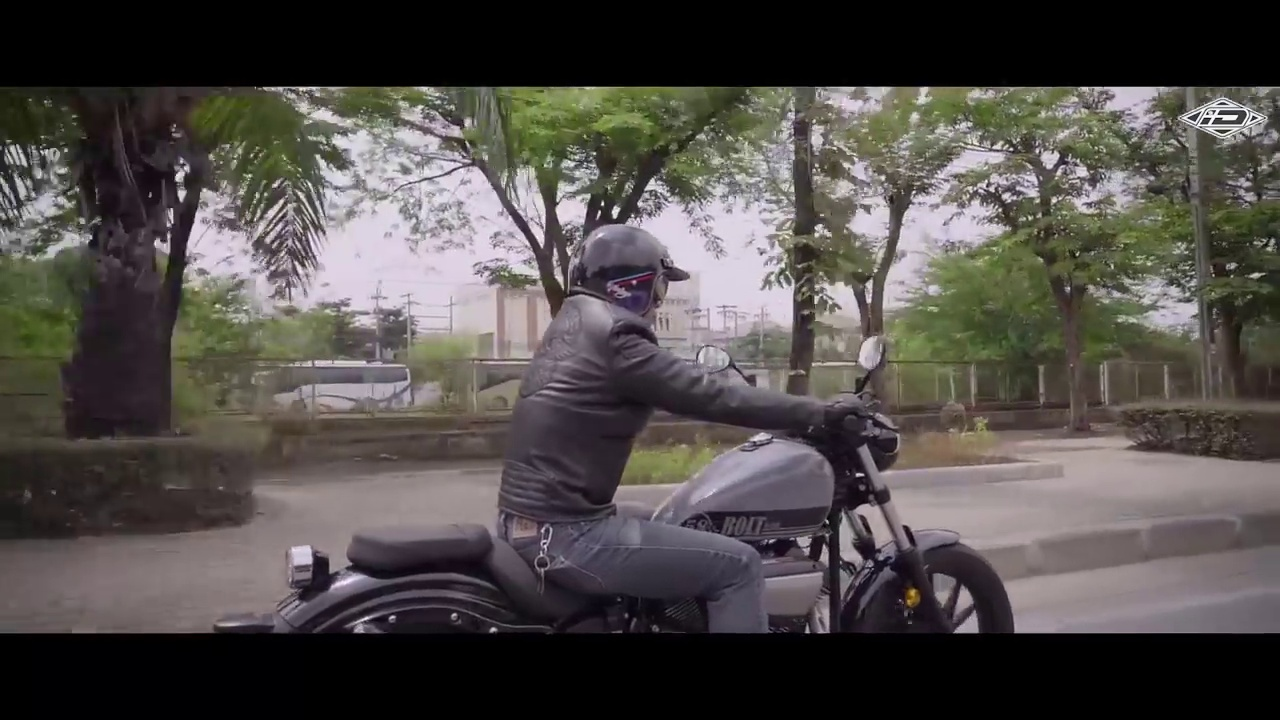helmet: (559, 217, 690, 308)
